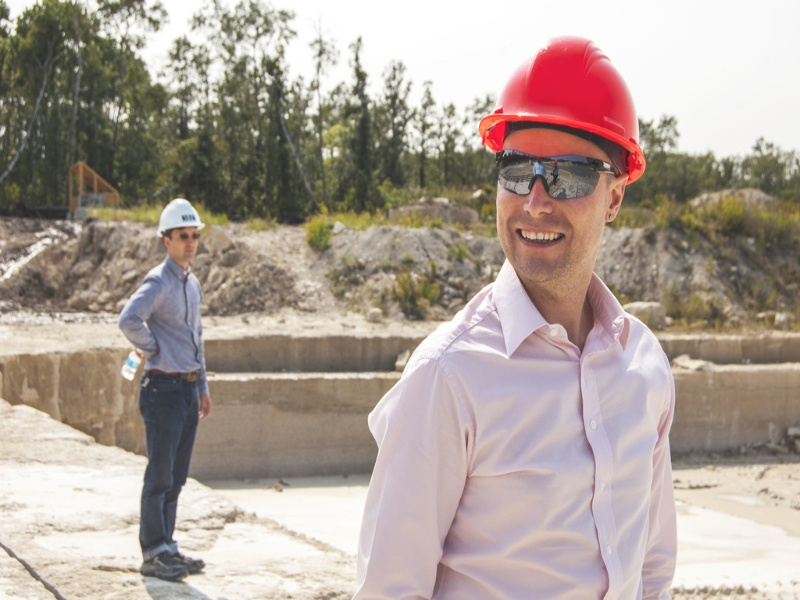baret: (481, 33, 647, 186), (156, 199, 209, 240)
